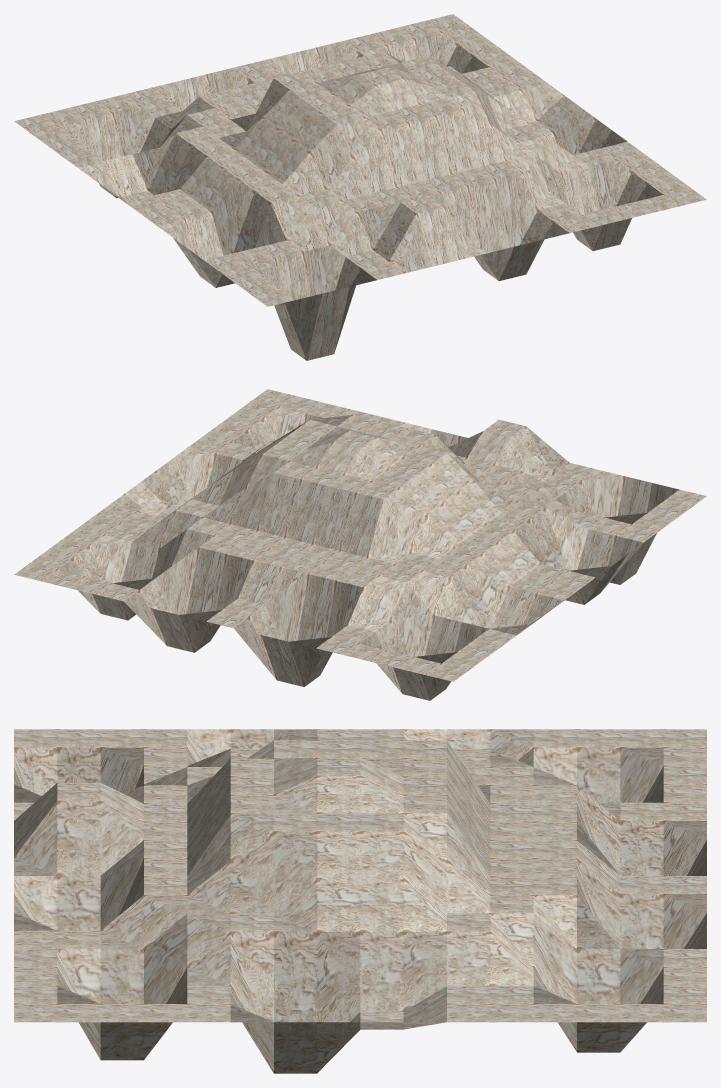
The model's file is courser6a.obj.
3 renders of one model, top to bottom at view 1: azimuth 30°, elevation 25°; view 2: azimuth 150°, elevation 25°; view 3: azimuth 270°, elevation 25°, orthographic. The views are drawn at different scales.
Parts seen in each view (by area): view 1: Plane; view 2: Plane; view 3: Plane.
Part boxes in pixels (<box>): Plane: <box>14,14,706,360</box>; Plane: <box>14,389,706,700</box>; Plane: <box>14,729,706,1073</box>.
Size of the model in its own units: 40 by 14.39 by 40.
1 material, 1 textured.
